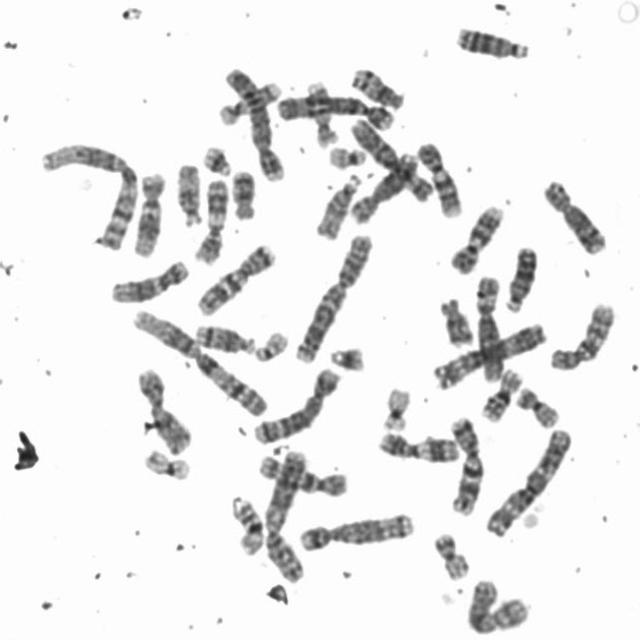A1: (126, 302, 270, 419), (34, 134, 141, 252)
A2: (290, 227, 376, 366), (258, 444, 313, 584)
A3: (480, 421, 577, 538), (428, 316, 550, 391)
B4: (221, 62, 288, 184), (270, 86, 398, 132)
B5: (249, 361, 344, 446), (294, 506, 418, 552)
C10: (544, 296, 618, 372), (252, 448, 351, 498)
C11: (190, 173, 231, 266), (374, 425, 462, 464)
C12: (105, 254, 192, 306), (126, 167, 166, 258)
C6: (345, 113, 437, 203), (472, 268, 506, 384)
C7: (192, 238, 279, 318), (444, 410, 486, 518)
C8: (345, 146, 420, 225), (538, 174, 610, 256)
C9: (445, 198, 507, 276), (412, 136, 465, 220)
D13: (451, 19, 532, 61), (500, 239, 540, 313)
D14: (347, 62, 407, 112), (190, 318, 259, 356)
D15: (311, 168, 364, 241), (172, 159, 203, 228)
E16: (476, 362, 526, 423), (225, 489, 267, 556)
E17: (214, 74, 284, 127), (303, 76, 342, 148)
E18: (434, 291, 477, 348), (227, 164, 259, 222)
F19: (139, 444, 193, 482), (377, 382, 413, 432)
F20: (512, 380, 562, 430), (428, 526, 473, 581)
G21: (324, 340, 368, 373), (198, 140, 234, 177)
G22: (250, 326, 292, 363), (324, 140, 369, 170)
X: (131, 362, 194, 457), (460, 572, 535, 636)
